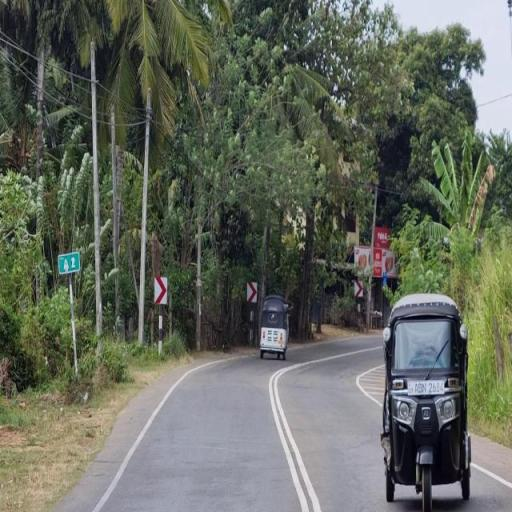double_white_line: (268, 363, 322, 512), (0, 27, 42, 87)
